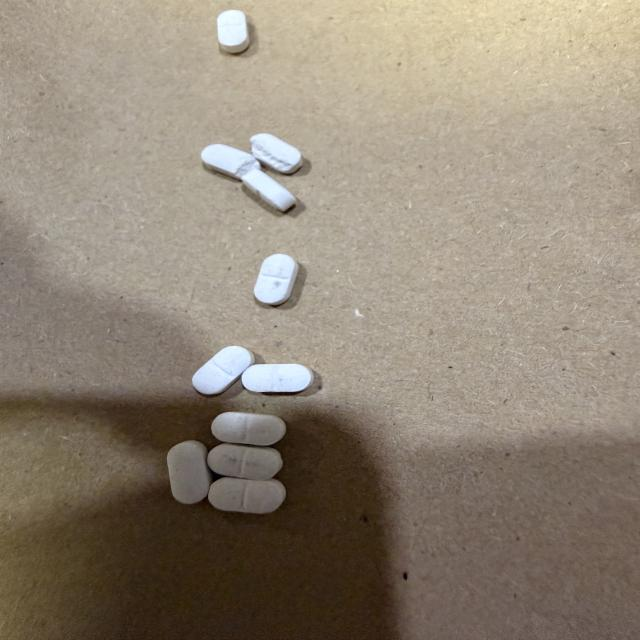pill: (192, 346, 254, 394), (167, 441, 212, 503), (209, 478, 285, 513), (208, 444, 282, 479), (212, 412, 286, 445), (254, 254, 298, 305), (242, 169, 295, 211), (202, 144, 260, 179), (251, 134, 302, 173), (242, 364, 313, 392), (217, 10, 249, 53)
